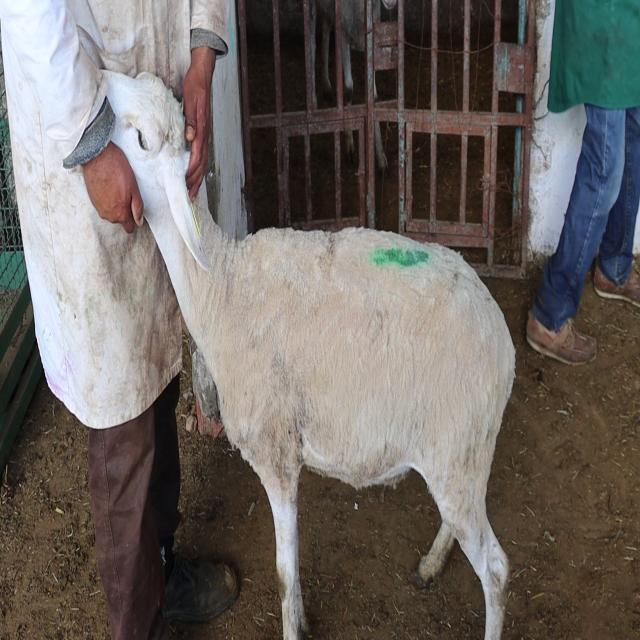Score_2: (105, 71, 515, 639)
